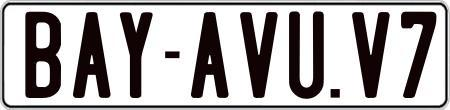7: (401, 10, 432, 100)
A: (190, 10, 234, 99), (73, 11, 113, 97)
B: (23, 9, 65, 96)
U: (289, 10, 330, 100)
V: (240, 12, 283, 100), (349, 9, 391, 97)
Y: (120, 10, 155, 96)
